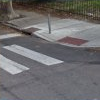crosswalk: (0, 43, 63, 74)
